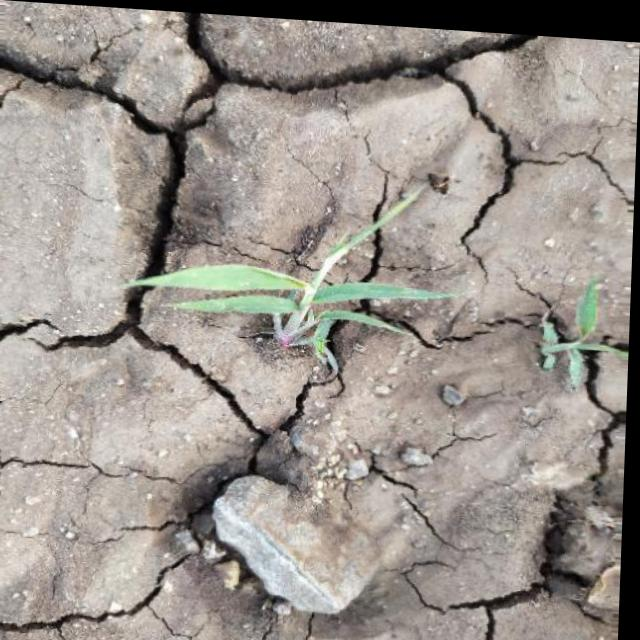weed: (125, 161, 487, 416)
